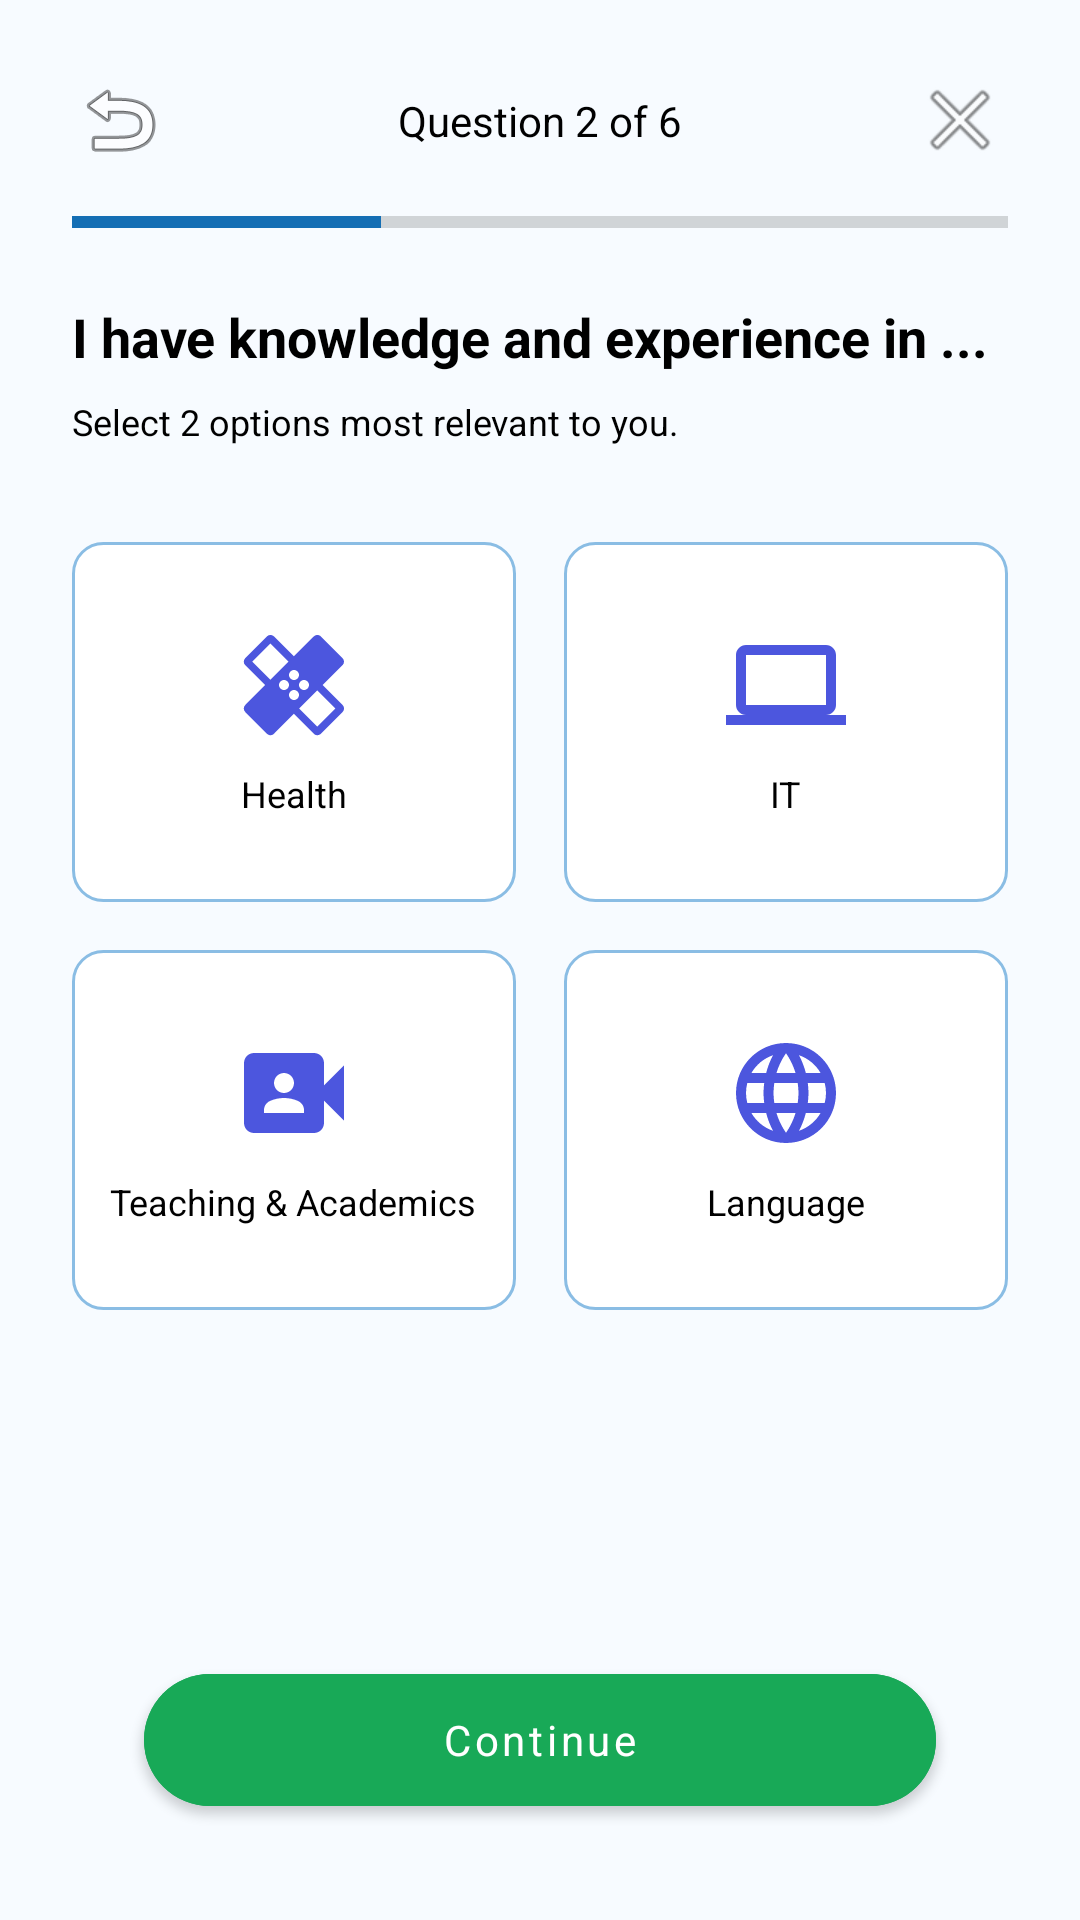

Point at icon controls on the screen. Image size 1080px×1920px, points as [x,y].
close clear cancel: [960,120]
healing: [293,685]
laptop: [786,685]
revert: [121,120]
video camera front: [294,1093]
